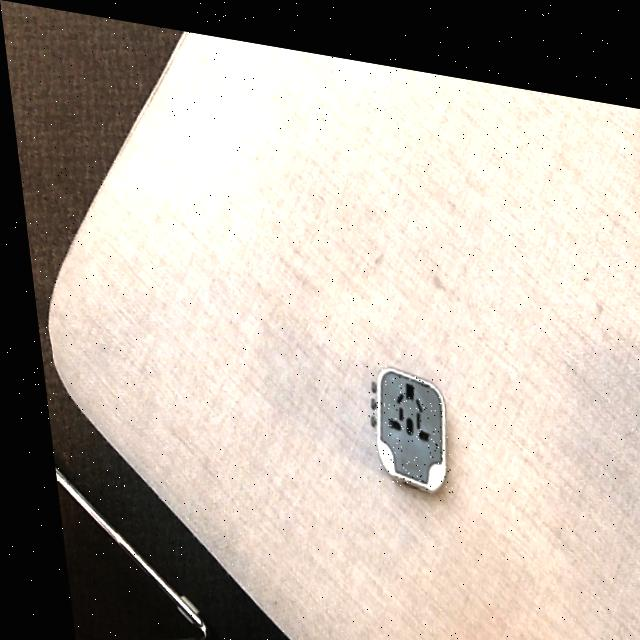adapter: (355, 349, 444, 481)
